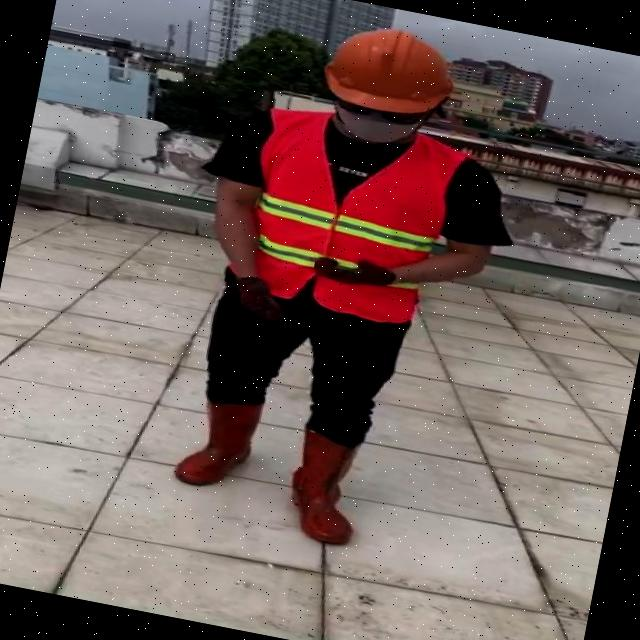boots: (278, 428, 372, 547), (169, 388, 264, 497)
